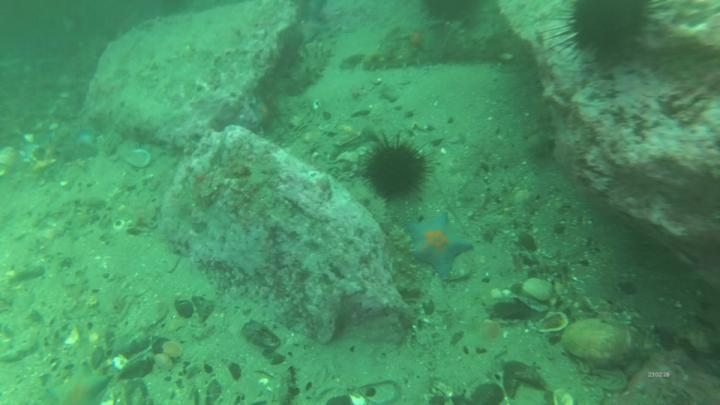echinus: (569, 2, 652, 59), (367, 145, 427, 199)
holothurian: (287, 46, 332, 100), (362, 49, 429, 71)
starfish: (409, 212, 472, 279), (50, 365, 109, 405)
